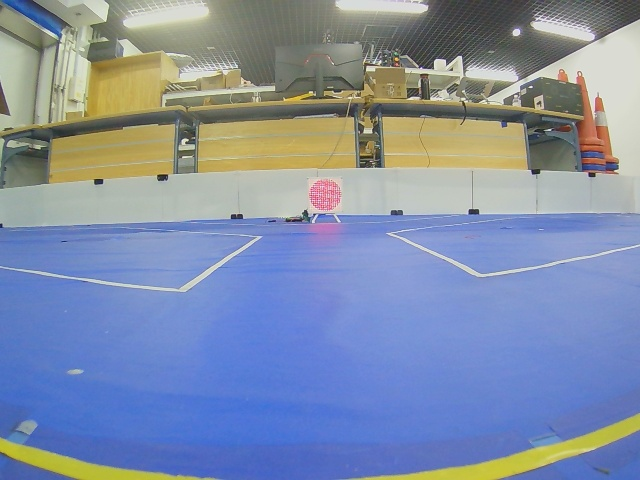red: (309, 178, 342, 213)
